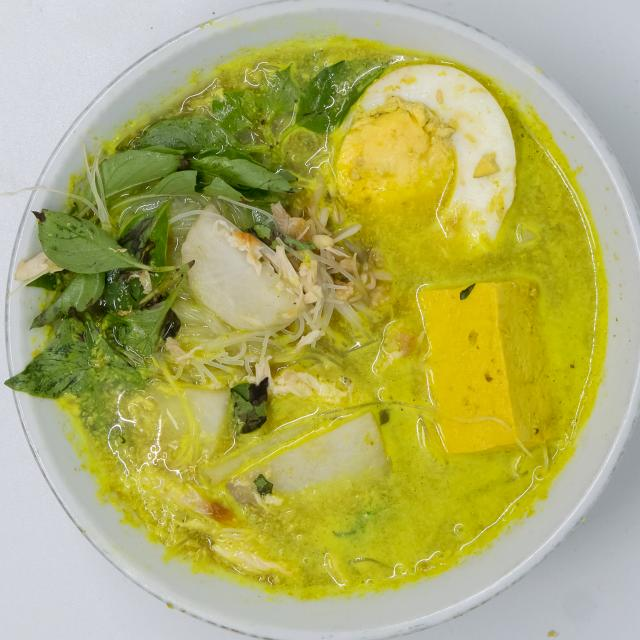Laksa-Bogor: (15, 20, 617, 597)
